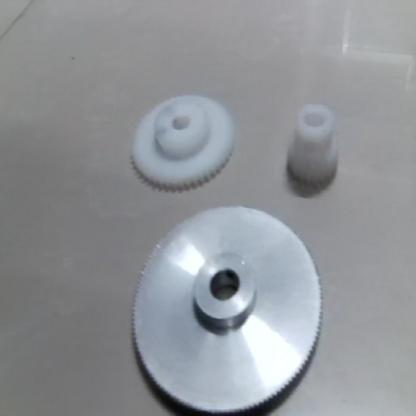FOD: (126, 202, 328, 416), (122, 93, 244, 196), (279, 101, 347, 194)
